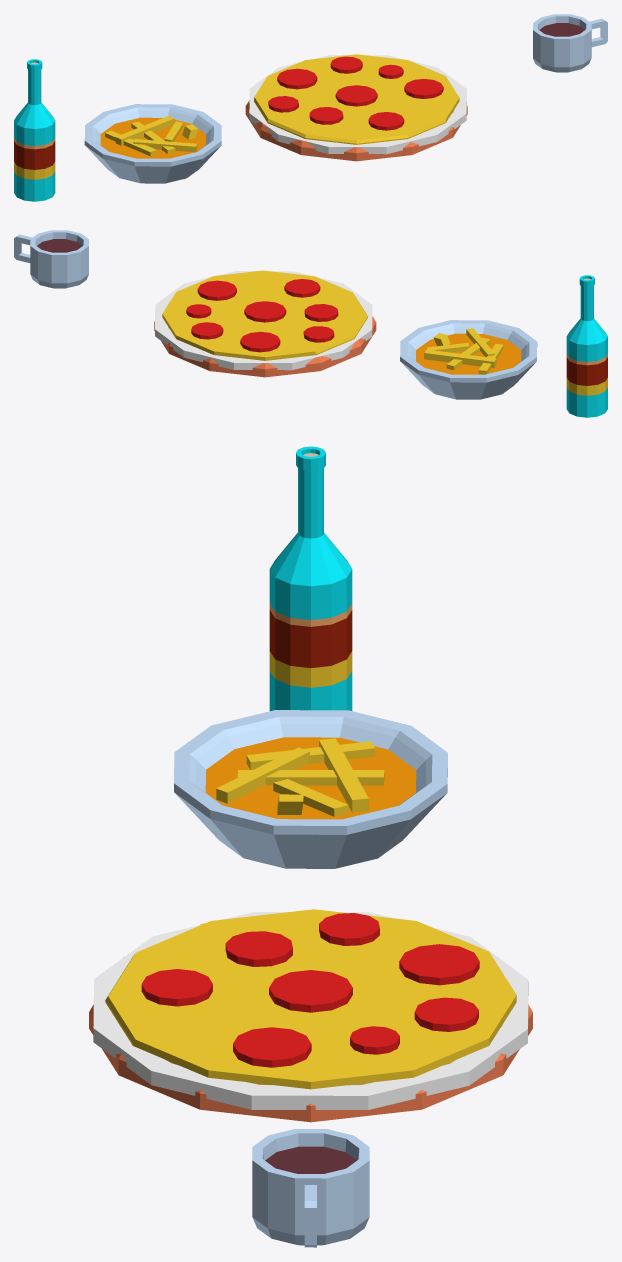
Rendered from Tableware And Foods.fbx.
3 renders of one model, top to bottom at view 1: azimuth 30°, elevation 25°; view 2: azimuth 150°, elevation 25°; view 3: azimuth 270°, elevation 25°, orthographic. The views are drawn at different scales.
Visible parts, largest first — view 1: Pizza, Stew Bowl Green, Bottle 04, Coffee Cup Black, Plate 01 Grey; view 2: Pizza, Stew Bowl Green, Bottle 04, Coffee Cup Black, Plate 01 Grey; view 3: Pizza, Stew Bowl Green, Bottle 04, Plate 01 Grey, Coffee Cup Black.
Boxes of the visible parts, bbox=[...] form: Pizza: bbox=[245, 54, 467, 161]; Stew Bowl Green: bbox=[84, 104, 221, 183]; Bottle 04: bbox=[14, 59, 55, 201]; Coffee Cup Black: bbox=[533, 14, 607, 72]; Plate 01 Grey: bbox=[249, 55, 466, 154]; Pizza: bbox=[154, 270, 376, 377]; Stew Bowl Green: bbox=[400, 320, 537, 399]; Bottle 04: bbox=[566, 275, 607, 417]; Coffee Cup Black: bbox=[14, 230, 88, 288]; Plate 01 Grey: bbox=[155, 271, 372, 370]; Pizza: bbox=[89, 909, 532, 1122]; Stew Bowl Green: bbox=[174, 710, 447, 868]; Bottle 04: bbox=[269, 446, 352, 711]; Plate 01 Grey: bbox=[93, 912, 528, 1109]; Coffee Cup Black: bbox=[252, 1129, 369, 1247].
Size of the model in its own units: 78.38 by 16.6 by 25.56.
